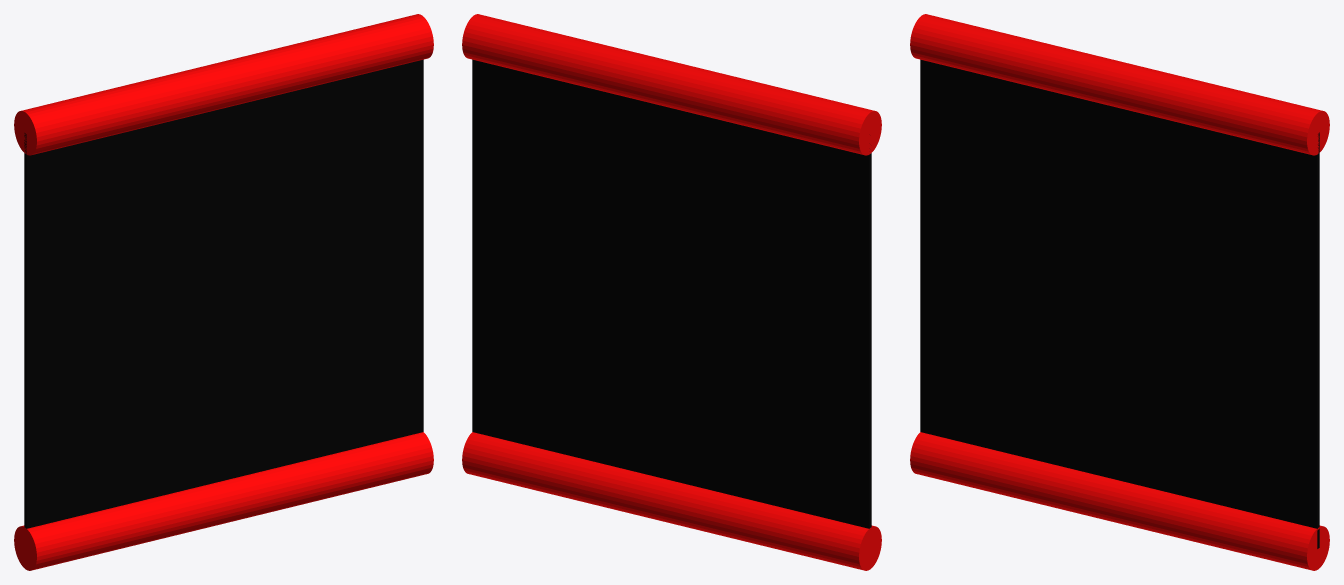
Rendered from Neon Wall.fbx.
3 renders of one model, left to right at view 1: azimuth 30°, elevation 25°; view 2: azimuth 150°, elevation 25°; view 3: azimuth 330°, elevation 25°, orthographic.
Parts seen in each view (by area): view 1: Куб, Цилиндр; view 2: Куб, Цилиндр; view 3: Куб, Цилиндр.
Part boxes in pixels (bbox=[...]): Куб: bbox=[24, 59, 423, 528]; Цилиндр: bbox=[14, 14, 433, 570]; Куб: bbox=[472, 59, 871, 528]; Цилиндр: bbox=[462, 14, 881, 570]; Куб: bbox=[920, 59, 1319, 548]; Цилиндр: bbox=[910, 14, 1329, 570].
Bounding box in the file's own units: 200 × 220 × 20.
